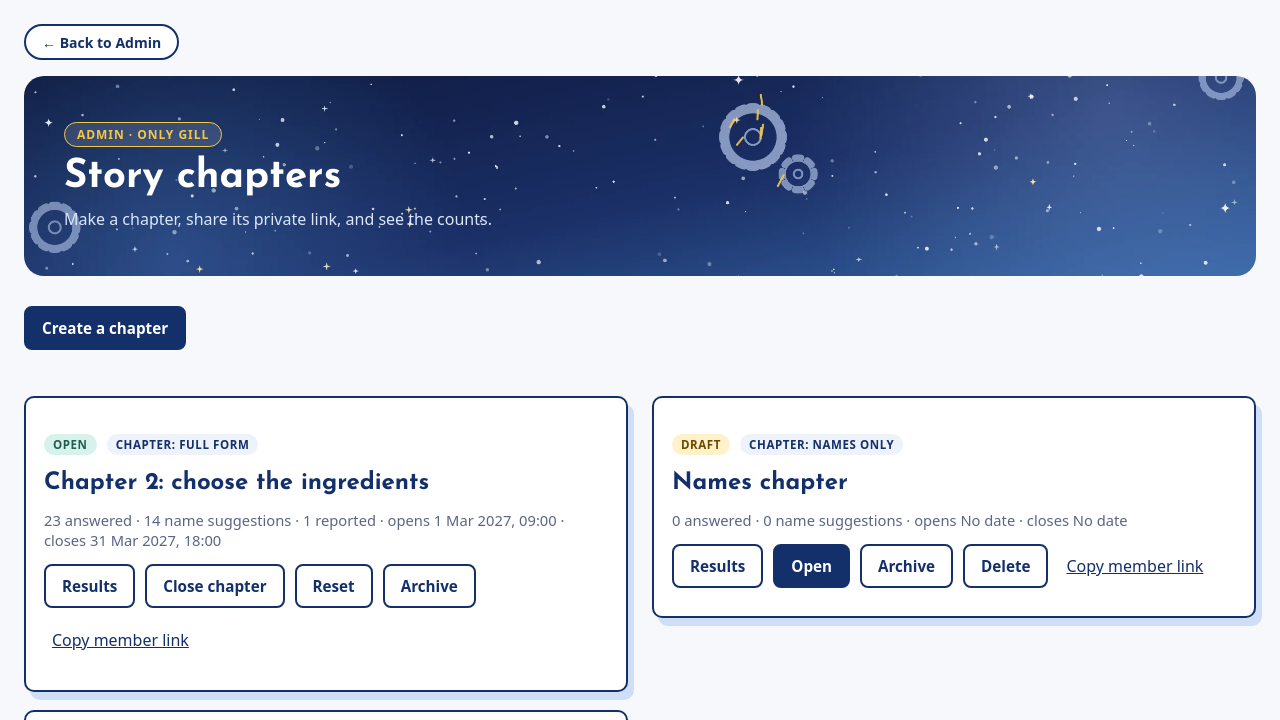
the confirm steps › asks before closing, and does nothing until confirmed
Step 1. Click the button "Close chapter" → (215, 586), box [145,564,284,608]
(page scrolled)
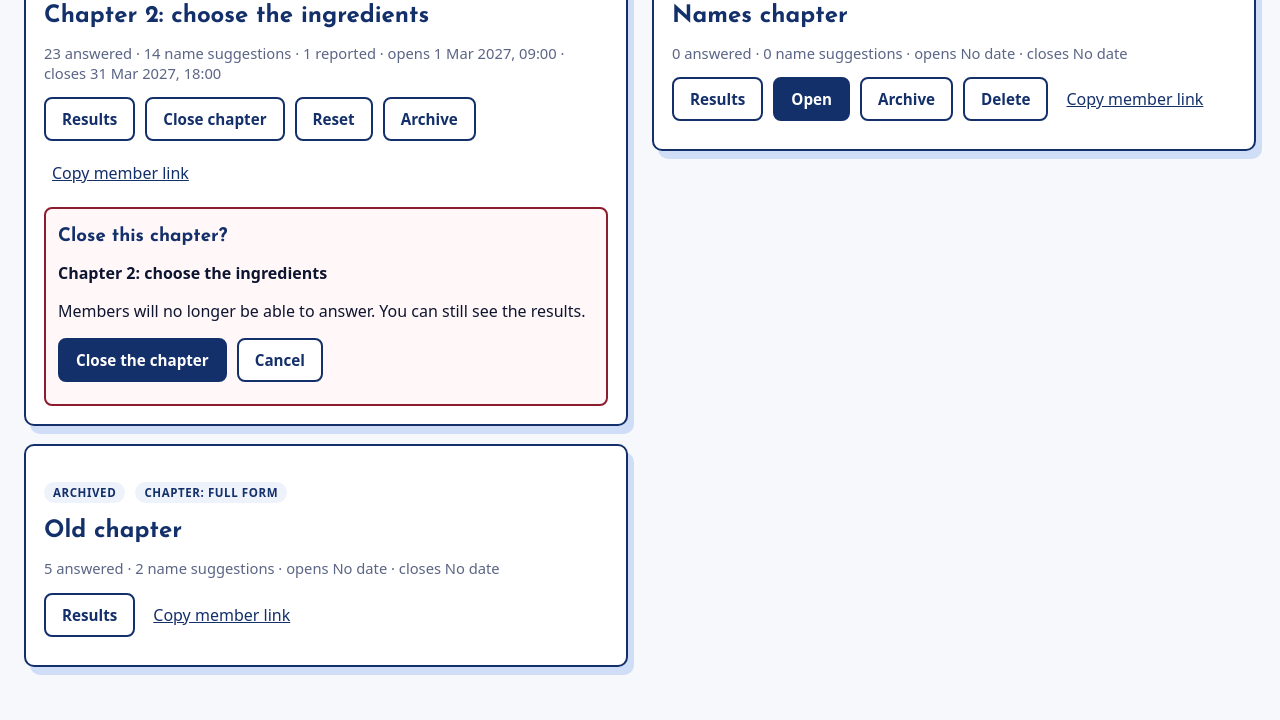
Check: the dialog shows "Close this chapter?", box [58,227,227,246]
Step 2. Click the button "Cancel" → (280, 360), box [237,338,323,382]
(page scrolled)
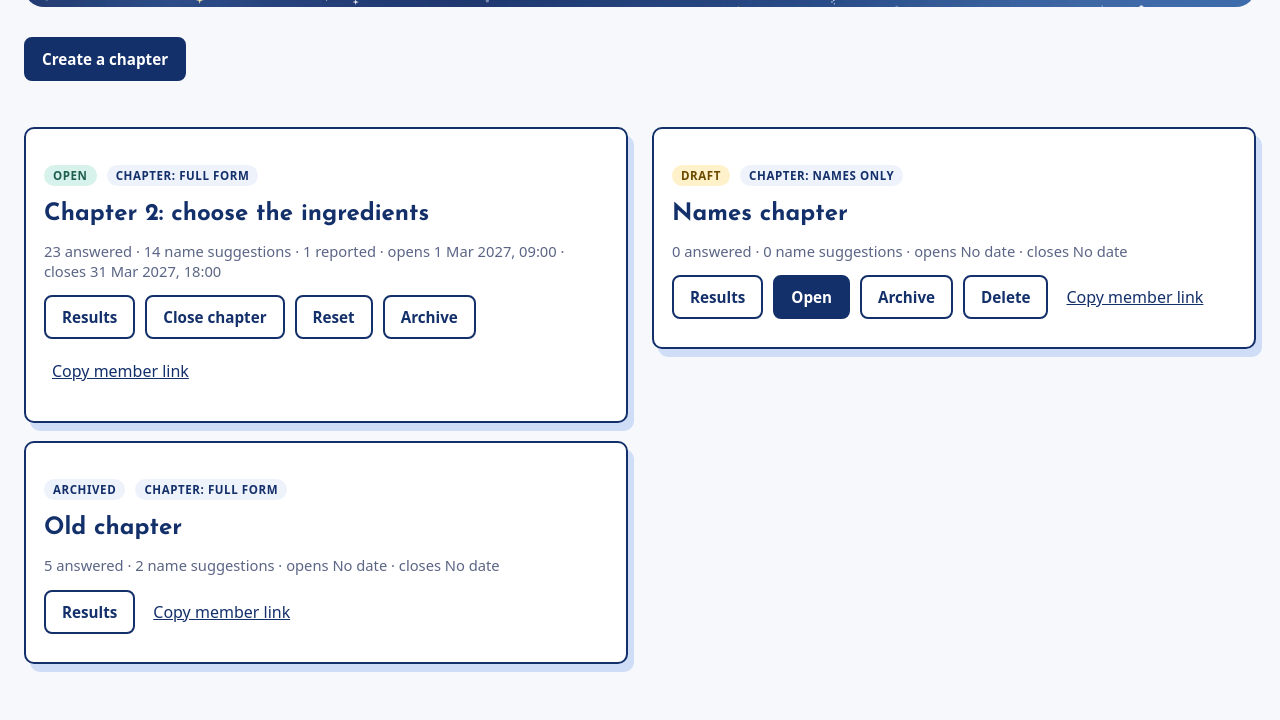
Check: the dialog is gone
